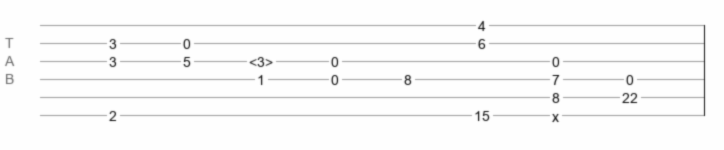0: (183, 36, 191, 46), (331, 72, 339, 82), (331, 54, 339, 64), (552, 54, 560, 64), (626, 72, 634, 82)
1: (257, 72, 265, 82)
15: (474, 108, 490, 118)
2: (109, 108, 117, 118)
22: (622, 90, 638, 100)
3: (109, 36, 117, 46), (109, 54, 117, 64)
4: (478, 18, 486, 28)
5: (183, 54, 191, 64)
6: (478, 36, 486, 46)
7: (552, 72, 560, 82)
8: (404, 72, 412, 82), (552, 90, 560, 100)
harmonic: (249, 54, 273, 64)
x: (552, 109, 559, 117)
